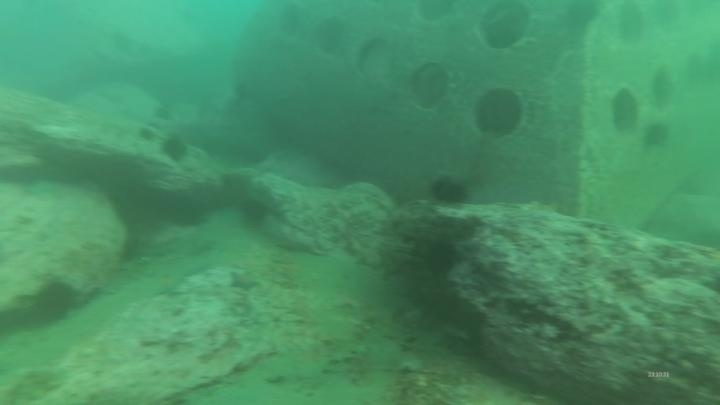echinus: (29, 278, 80, 325), (421, 236, 461, 278), (163, 196, 209, 232), (428, 173, 472, 209), (217, 170, 253, 208), (237, 196, 272, 229), (159, 133, 191, 165), (135, 124, 159, 140), (156, 108, 175, 119)
starfish: (145, 270, 188, 300), (226, 267, 263, 293)
